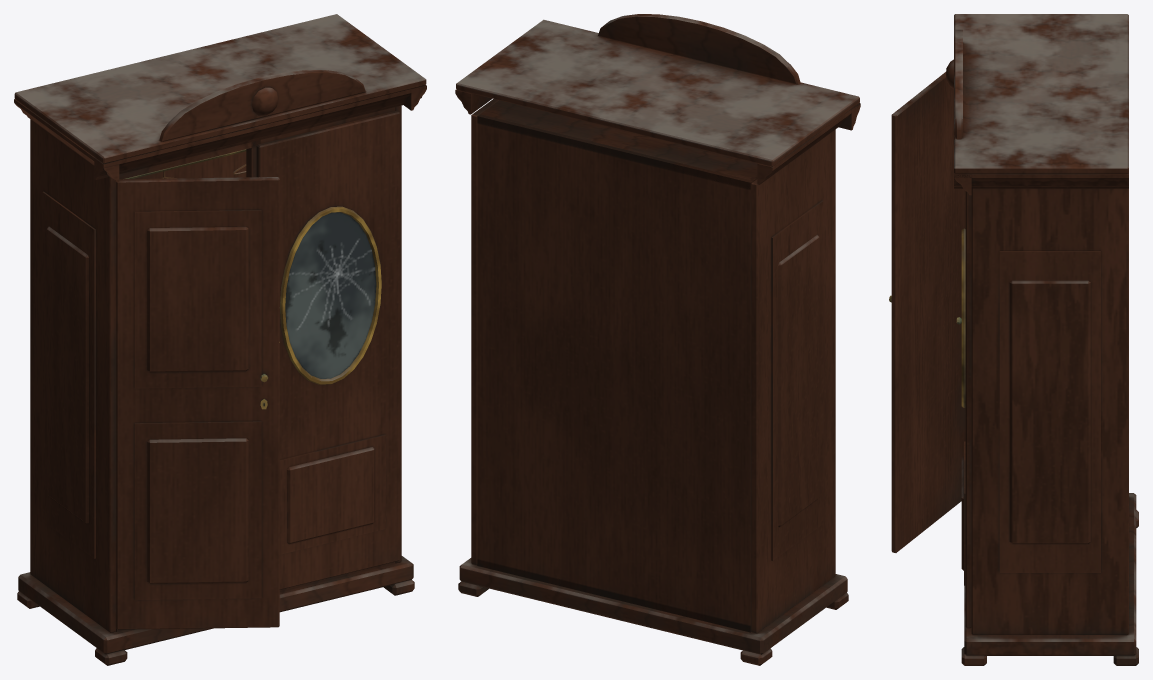
The model's file is Wardrobe.fbx.
3 views of the same model, side by side, from view 1: azimuth 30°, elevation 25°; view 2: azimuth 150°, elevation 25°; view 3: azimuth 270°, elevation 25° (orthographic). The views are drawn at different scales.
Parts seen in each view (by area): view 1: Frame, DoorLeft, DoorRight; view 2: Frame; view 3: Frame, DoorLeft, DoorRight.
Boxes of the visible parts, left/top/right/bottom form: Frame: left=14, top=14, right=426, bottom=665; DoorLeft: left=116, top=177, right=279, bottom=629; DoorRight: left=256, top=110, right=399, bottom=589; Frame: left=455, top=14, right=860, bottom=665; Frame: left=946, top=14, right=1138, bottom=665; DoorLeft: left=889, top=72, right=965, bottom=552; DoorRight: left=956, top=191, right=971, bottom=628.
Size of the model in its own units: 4.32 by 7.05 by 2.96.
Materials: 1 (1 with a texture image).
